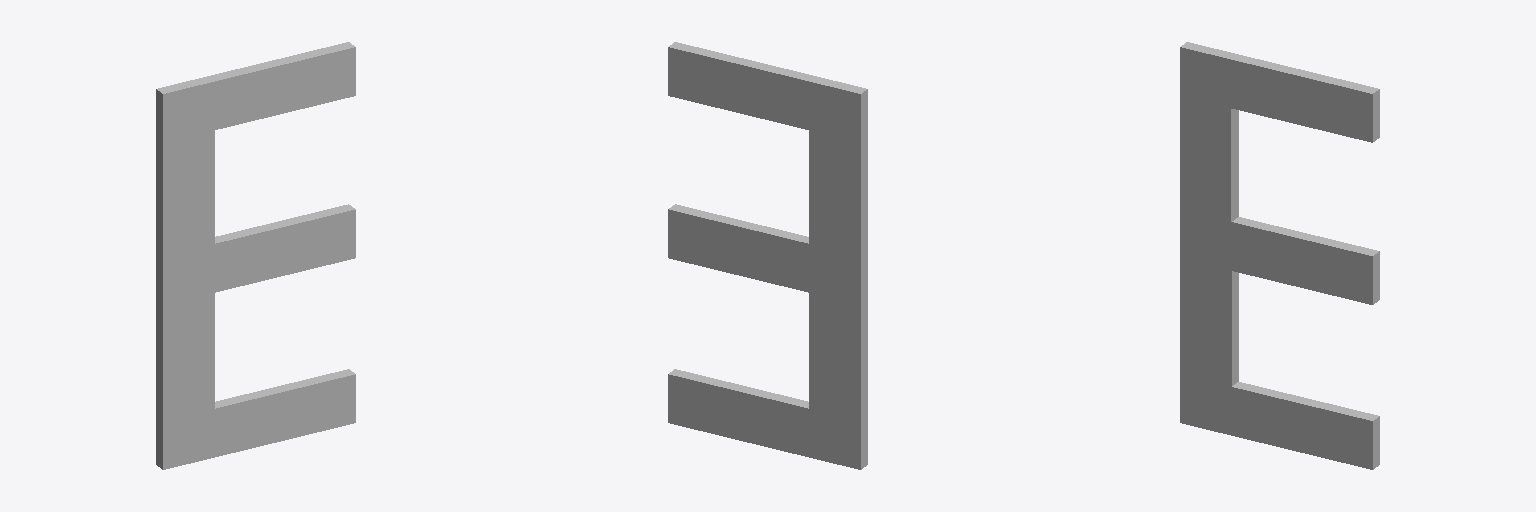
The model's file is original-9.obj.
3 views of the same model, side by side, from view 1: azimuth 30°, elevation 25°; view 2: azimuth 150°, elevation 25°; view 3: azimuth 330°, elevation 25° (orthographic).
Bounding box in the file's own units: 0.0147 × 0.0274 × 0.0009.